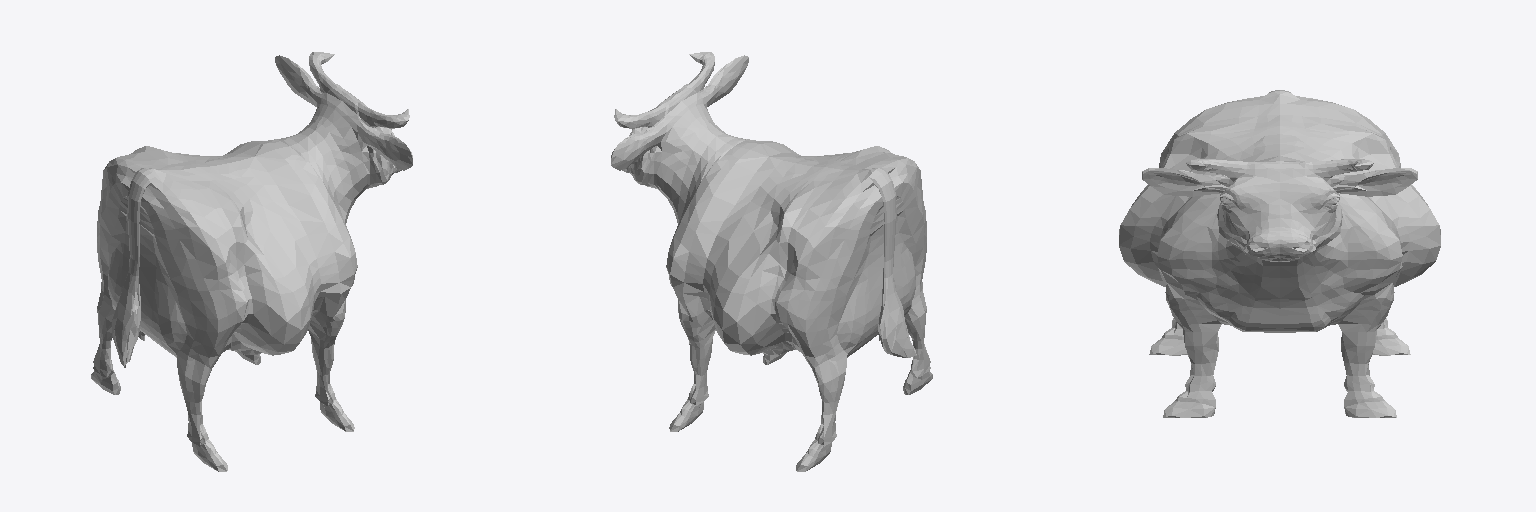
The model's file is cow-nonormals-normalized.obj.
3 views of the same model, side by side, from view 1: azimuth 30°, elevation 25°; view 2: azimuth 150°, elevation 25°; view 3: azimuth 270°, elevation 25° (orthographic).
Size of the model in its own units: 1 by 1 by 1.